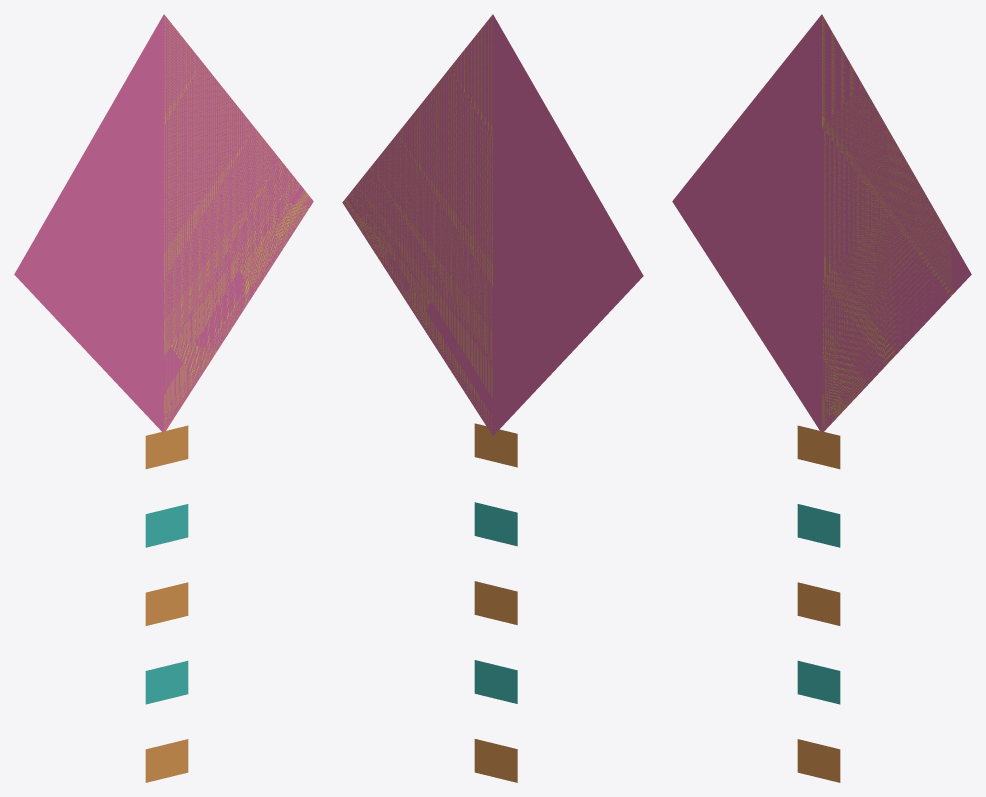
The model's file is fv_kite.glb.
3 renders of one model, left to right at view 1: azimuth 30°, elevation 25°; view 2: azimuth 150°, elevation 25°; view 3: azimuth 330°, elevation 25°, orthographic.
Parts seen in each view (by area): view 1: fv_kite; view 2: fv_kite; view 3: fv_kite.
Part boxes in pixels (x1,y1,x2,y2): fv_kite: (14,14,313,782); fv_kite: (342,14,643,782); fv_kite: (672,14,971,782).
Size of the model in its own units: 0.56 by 1.36 by 0.00996.
